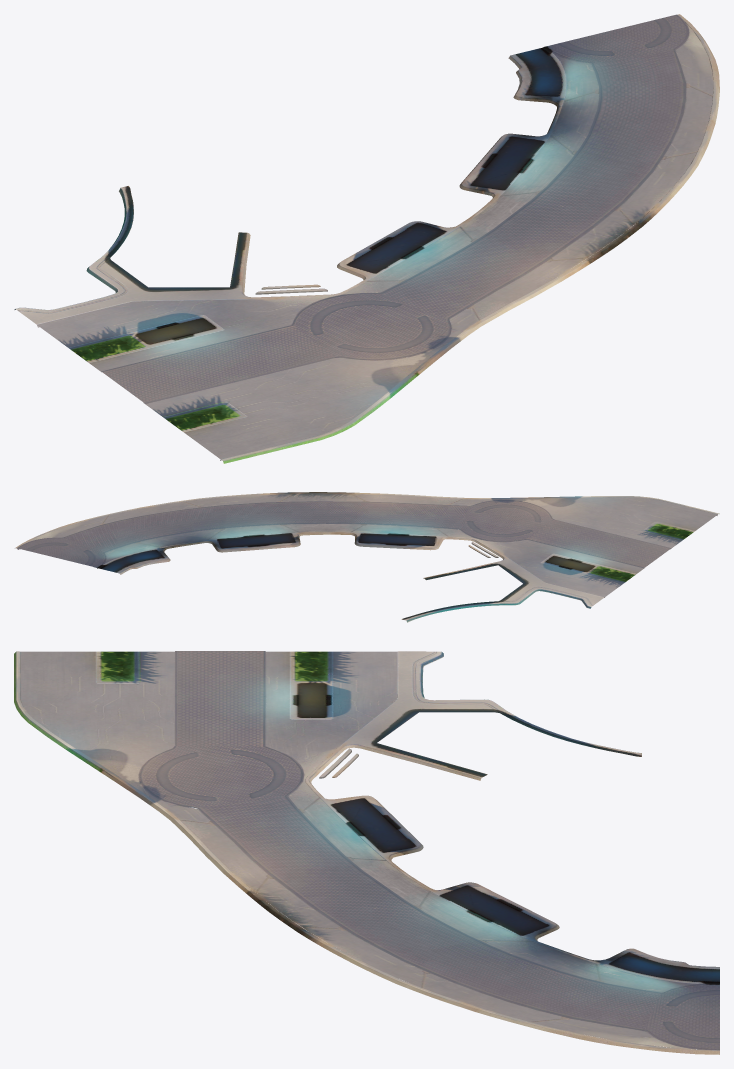
Rendered from pref_sm_beach_techsmall_001_bk_main_road03_lv2.fbx.
The picture shows the model from 3 angles, top to bottom: view 1: azimuth 30°, elevation 25°; view 2: azimuth 150°, elevation 25°; view 3: azimuth 270°, elevation 25°; orthographic projection. The views are drawn at different scales.
Parts seen in each view (by area): view 1: pref_sm_beach_techsmall_001_bk_main_road03_lv2; view 2: pref_sm_beach_techsmall_001_bk_main_road03_lv2; view 3: pref_sm_beach_techsmall_001_bk_main_road03_lv2.
Part boxes in pixels (bbox=[...]): pref_sm_beach_techsmall_001_bk_main_road03_lv2: bbox=[14, 14, 719, 463]; pref_sm_beach_techsmall_001_bk_main_road03_lv2: bbox=[15, 492, 719, 622]; pref_sm_beach_techsmall_001_bk_main_road03_lv2: bbox=[14, 651, 719, 1054].
Size of the model in its own units: 47.46 by 0.2197 by 35.31.
1 material, 1 textured.
